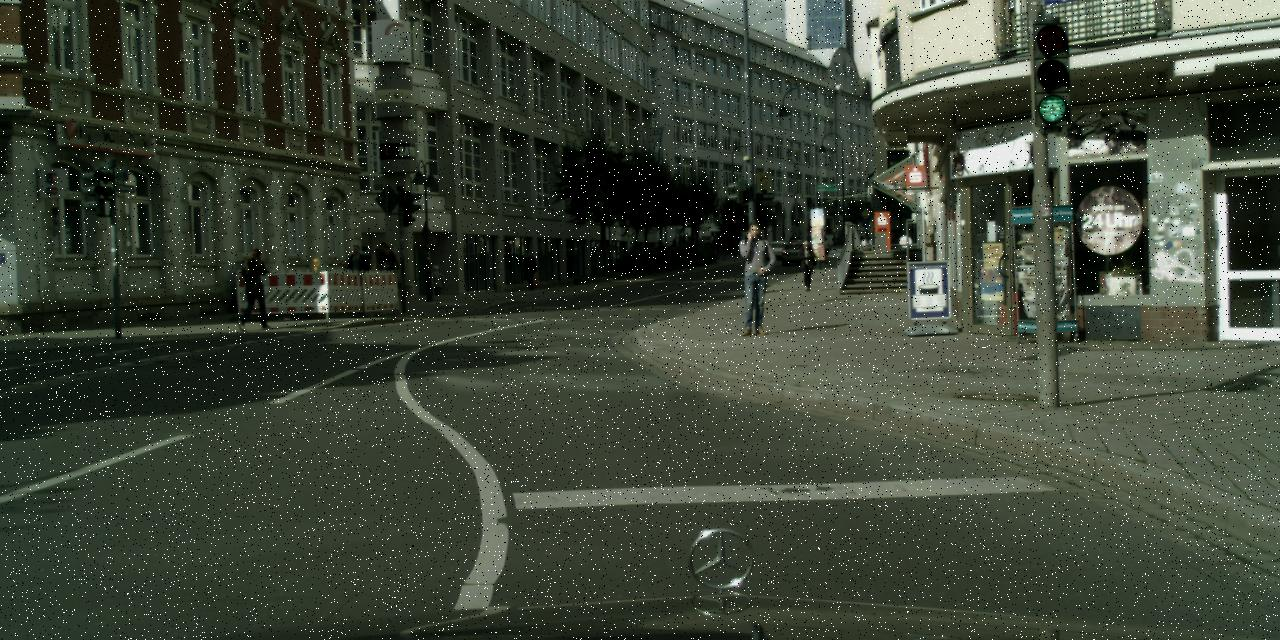ped: (731, 222, 777, 334), (238, 248, 271, 330), (346, 244, 368, 300), (374, 242, 396, 297), (377, 244, 399, 298), (796, 240, 816, 291), (710, 232, 734, 259), (522, 250, 538, 290), (427, 265, 442, 301), (859, 234, 871, 266), (819, 236, 830, 264)
